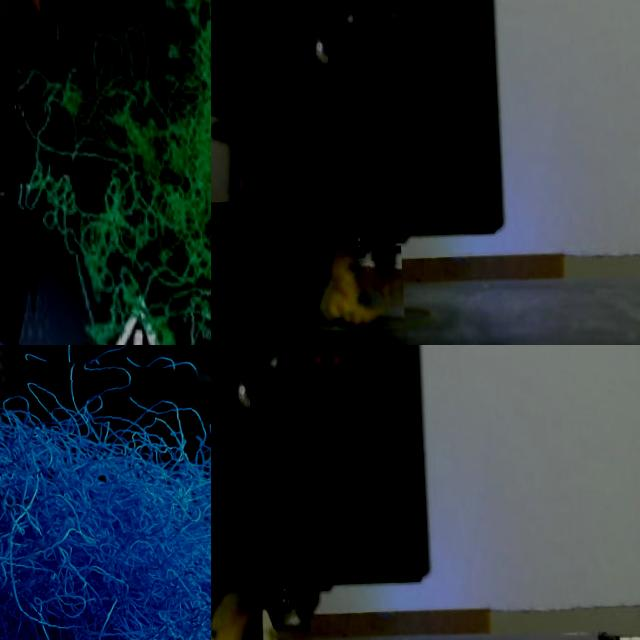spaghetti: (6, 0, 211, 345), (0, 345, 211, 640), (309, 236, 406, 332), (211, 588, 255, 640)
